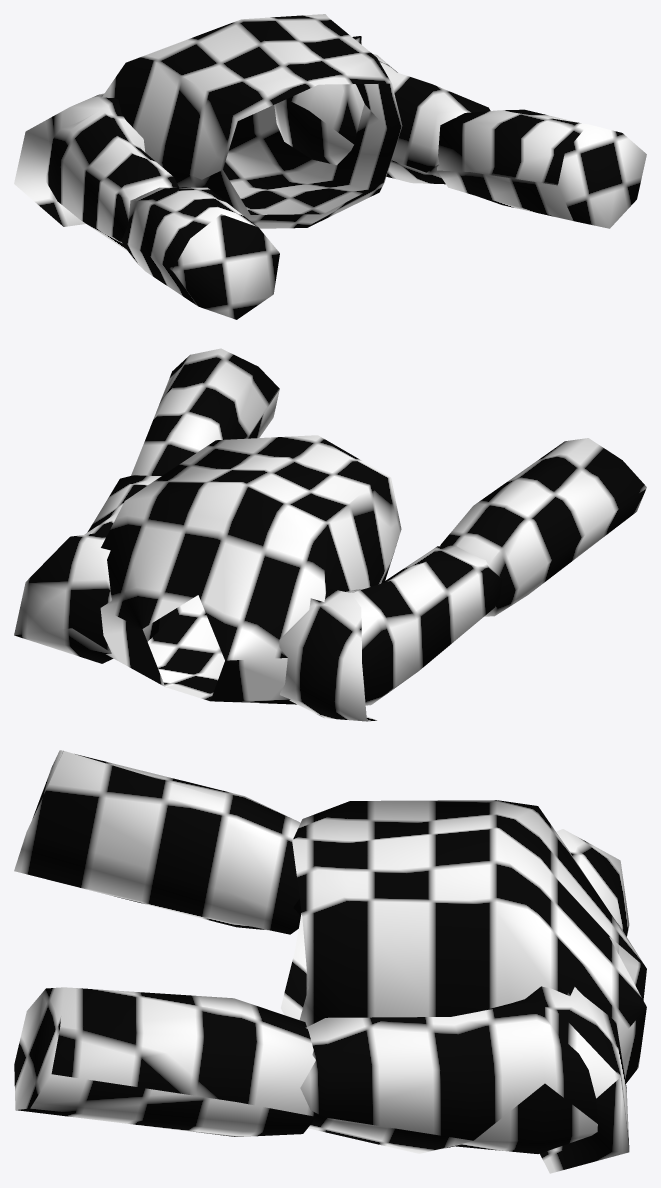
The model's file is initarpl10.dae.
3 renders of one model, top to bottom at view 1: azimuth 30°, elevation 25°; view 2: azimuth 150°, elevation 25°; view 3: azimuth 270°, elevation 25°, orthographic. The views are drawn at different scales.
Parts seen in each view (by area): view 1: armor; view 2: armor; view 3: armor.
Boxes of the visible parts, x1=… form: armor: x1=14, y1=14, x2=646, y2=319; armor: x1=14, y1=348, x2=646, y2=721; armor: x1=14, y1=750, x2=646, y2=1173.
Size of the model in its own units: 1.79 by 1.57 by 0.6867.
1 material, 1 textured.
